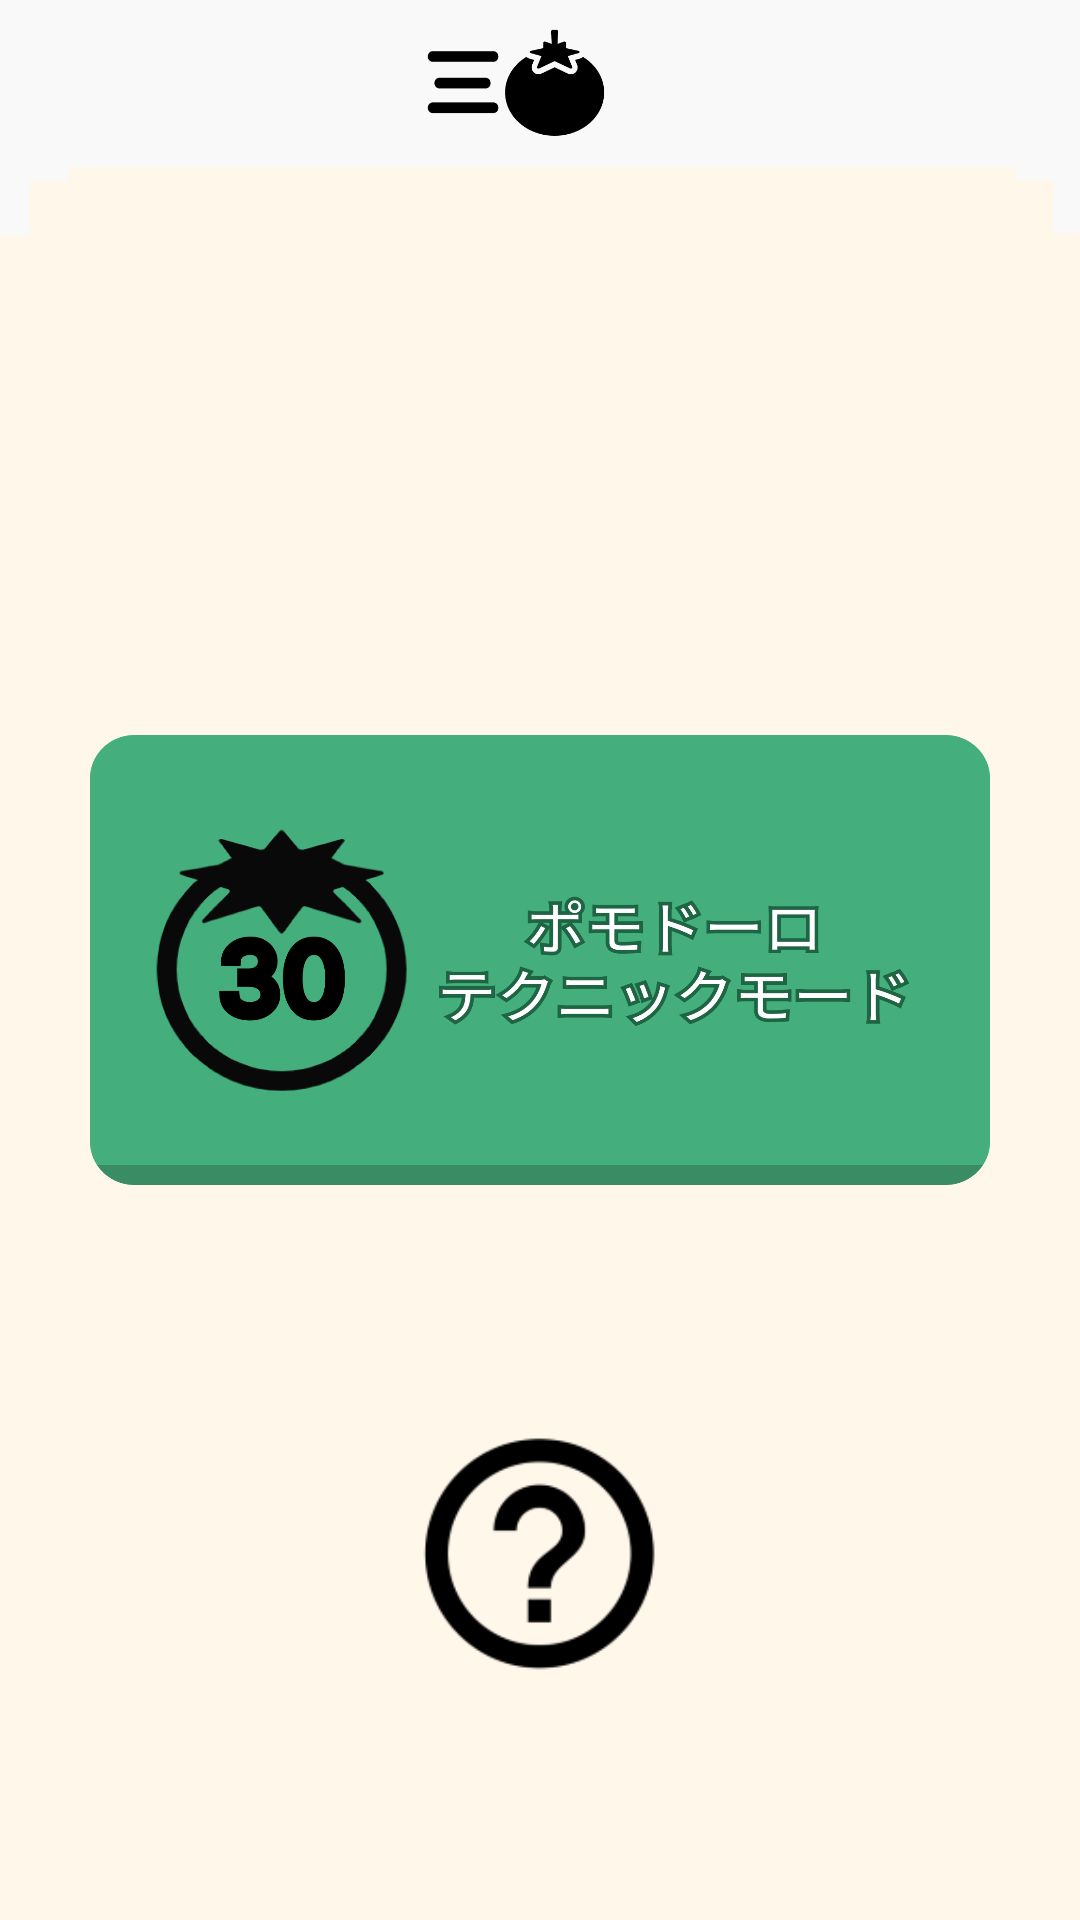

Named icons in this screenshot (1080px×1920px) and their centers, (x=x, y=y):
help: (x=539, y=1554)
